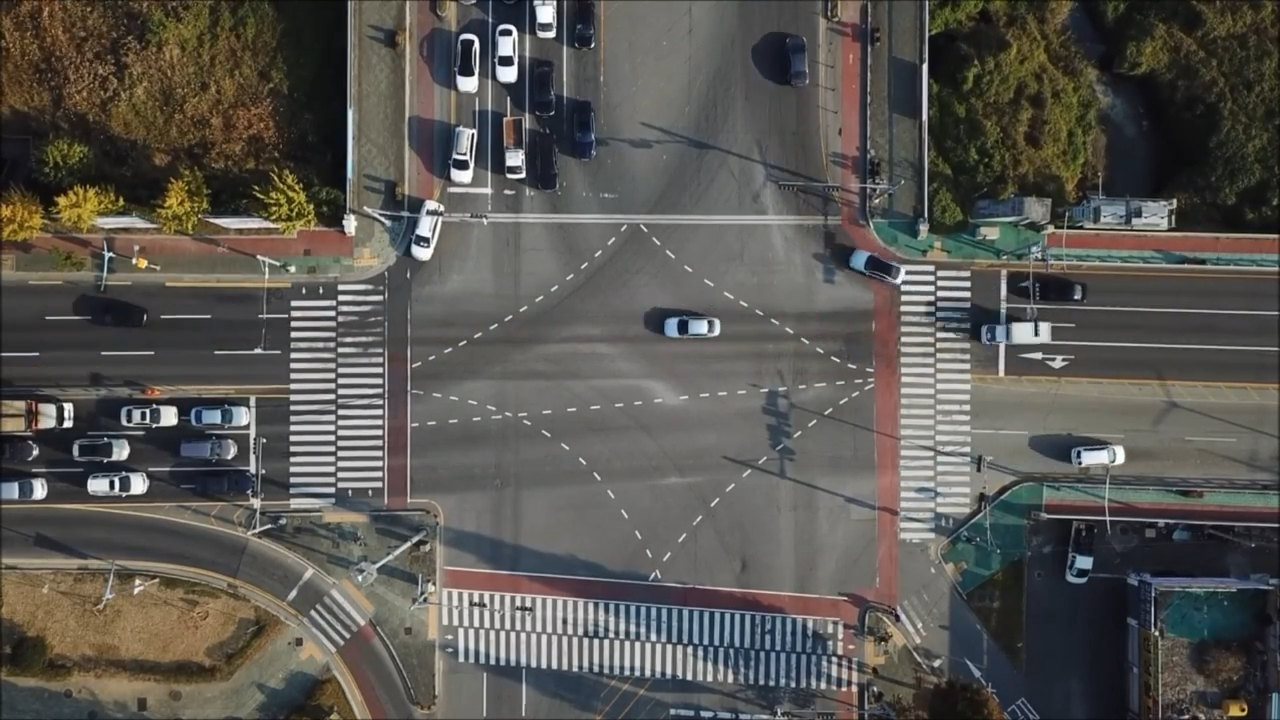car: (1, 396, 73, 433), (408, 196, 444, 259), (844, 249, 902, 285), (1067, 515, 1097, 580), (90, 297, 150, 328), (195, 468, 256, 498), (1067, 440, 1125, 470), (492, 21, 519, 85), (779, 35, 812, 87), (82, 471, 147, 496), (534, 124, 559, 189), (447, 123, 475, 181), (455, 30, 481, 92), (980, 321, 1052, 343), (502, 113, 526, 175), (532, 55, 557, 114), (662, 314, 720, 338), (118, 406, 179, 428), (176, 436, 234, 459), (574, 102, 596, 162), (72, 437, 129, 460), (190, 405, 249, 426), (1033, 280, 1086, 302), (573, 1, 595, 50), (1, 476, 45, 497), (533, 1, 559, 36), (1, 438, 37, 460)
